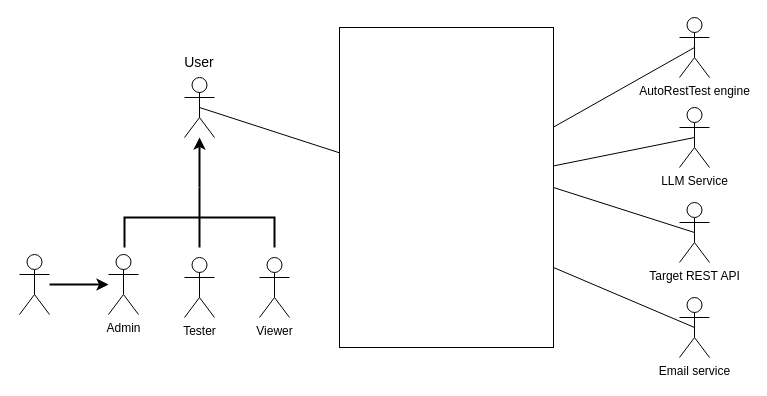
Image size: 767x396. Some labels were removed from this diagram. Here are the shapes that lost their labels. From the top down, the centre of each, then its label:
At point (446, 187): "AutoRestTest".
At point (34, 284): "Owner".
